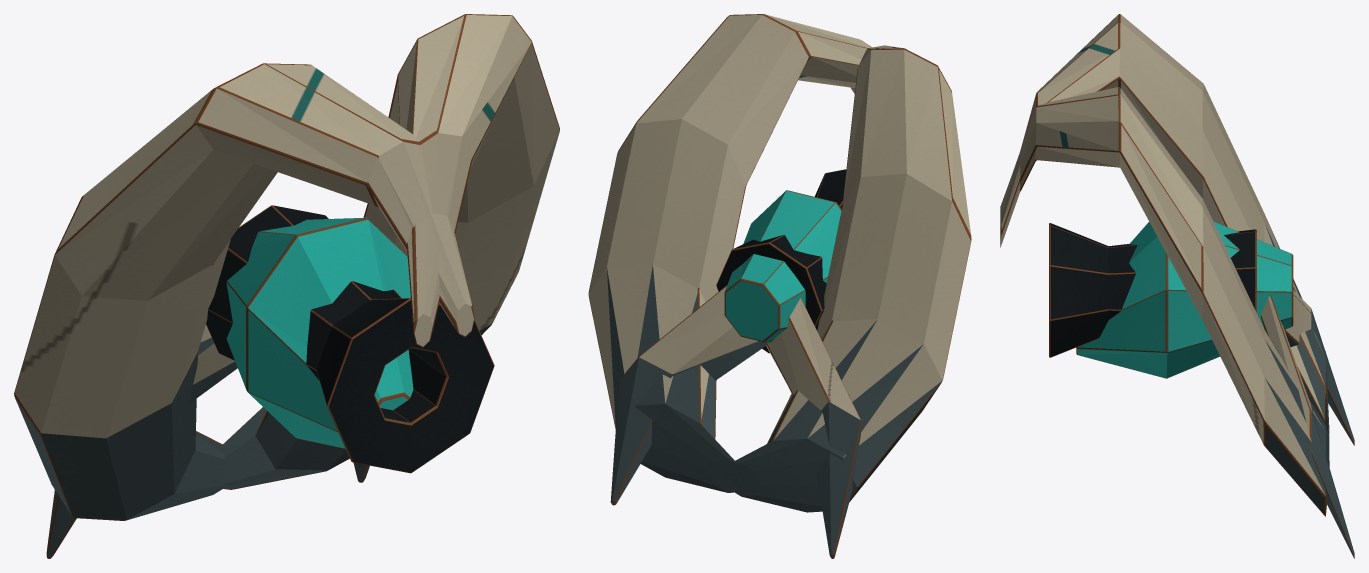
The model's file is Emissor_MeshLibrary.fbx.
3 views of the same model, side by side, from view 1: azimuth 30°, elevation 25°; view 2: azimuth 150°, elevation 25°; view 3: azimuth 270°, elevation 25° (orthographic). The views are drawn at different scales.
Parts seen in each view (by area): view 1: E_Carcaca_estruturada_1, E_Carcaca_estruturada_0, E_Canal_oco, E_Nucleo, E_Quilha_1; view 2: E_Carcaca_estruturada_0, E_Carcaca_estruturada_1, E_Nucleo, E_Quilha_0, E_Quilha_1, E_Canal_oco; view 3: E_Carcaca_estruturada_0, E_Carcaca_estruturada_1, E_Nucleo, E_Canal_oco, E_Quilha_0, E_Quilha_1.
Part boxes in pixels (bbox=[...]): E_Carcaca_estruturada_1: bbox=[14, 63, 474, 520]; E_Carcaca_estruturada_0: bbox=[223, 14, 559, 489]; E_Canal_oco: bbox=[206, 205, 494, 473]; E_Nucleo: bbox=[226, 217, 413, 448]; E_Quilha_1: bbox=[46, 325, 237, 558]; E_Carcaca_estruturada_0: bbox=[588, 14, 871, 492]; E_Carcaca_estruturada_1: bbox=[723, 45, 971, 512]; E_Nucleo: bbox=[724, 190, 841, 342]; E_Quilha_0: bbox=[610, 285, 766, 505]; E_Quilha_1: bbox=[765, 297, 861, 558]; E_Canal_oco: bbox=[716, 169, 846, 353]; E_Carcaca_estruturada_0: bbox=[1000, 87, 1329, 516]; E_Carcaca_estruturada_1: bbox=[1000, 14, 1329, 436]; E_Nucleo: bbox=[1076, 221, 1293, 378]; E_Canal_oco: bbox=[1049, 223, 1256, 357]; E_Quilha_0: bbox=[1261, 295, 1354, 558]; E_Quilha_1: bbox=[1284, 290, 1354, 445].
Size of the model in its own units: 120 by 135 by 98.
Materials: 1 (1 with a texture image).
